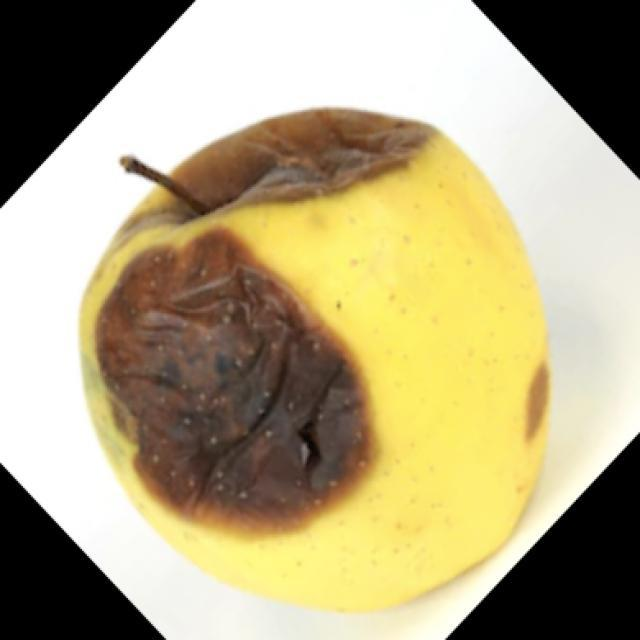Rotten: (50, 127, 528, 583)
